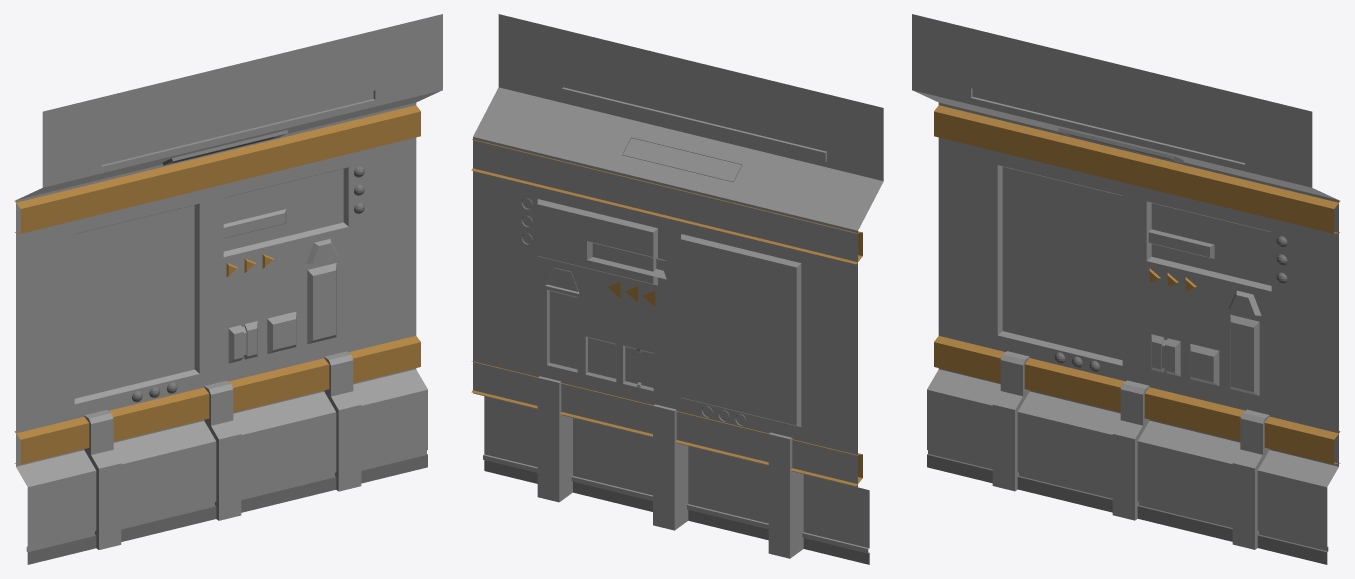
File: wall-1-40cc417026.glb
3 views of the same model, side by side, from view 1: azimuth 30°, elevation 25°; view 2: azimuth 150°, elevation 25°; view 3: azimuth 330°, elevation 25° (orthographic). The views are drawn at different scales.
Parts seen in each view (by area): view 1: Wall_1.obj; view 2: Wall_1.obj; view 3: Wall_1.obj.
Part boxes in pixels (x1,y1,x2,y2): Wall_1.obj: (14, 14, 442, 564); Wall_1.obj: (471, 14, 883, 564); Wall_1.obj: (912, 14, 1340, 564).
Bounding box in the file's own units: 4 × 4.43 × 0.5447.
